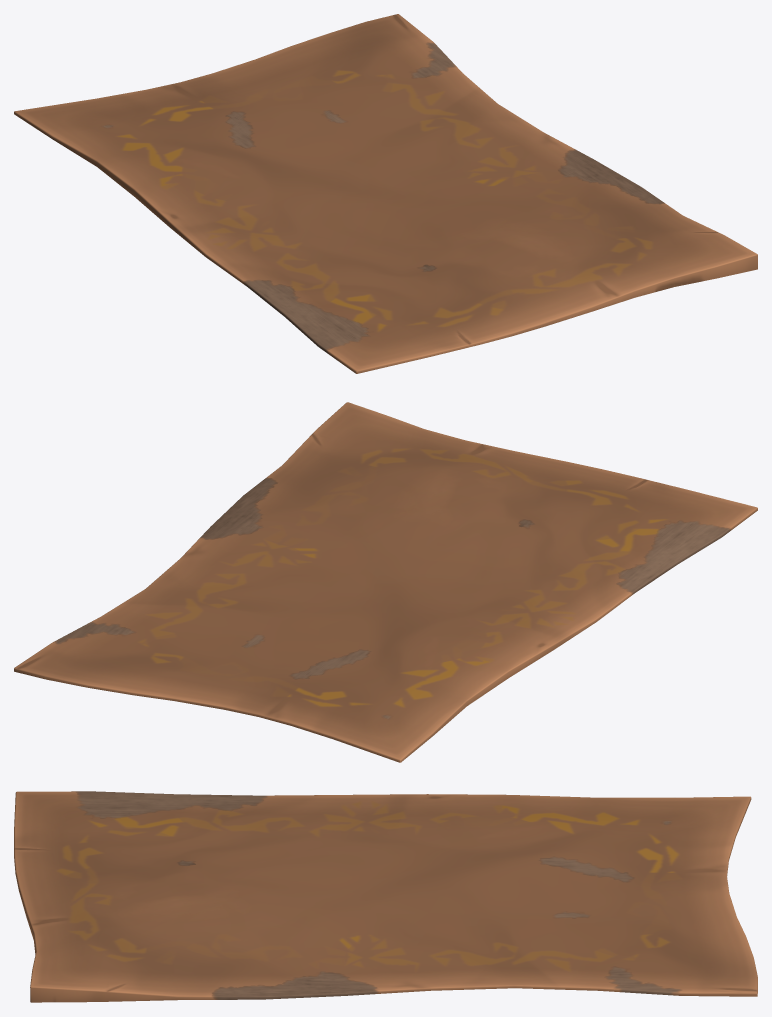
File: SM_Carpet_02.fbx
3 renders of one model, top to bottom at view 1: azimuth 30°, elevation 25°; view 2: azimuth 150°, elevation 25°; view 3: azimuth 270°, elevation 25°, orthographic. The views are drawn at different scales.
Visible parts, largest first — view 1: SM_Carpet_02_LOD0; view 2: SM_Carpet_02_LOD0; view 3: SM_Carpet_02_LOD0.
Boxes of the visible parts, x1,y1,x2,y2 form: SM_Carpet_02_LOD0: (14, 14, 757, 373); SM_Carpet_02_LOD0: (14, 402, 757, 762); SM_Carpet_02_LOD0: (14, 791, 757, 1002).
Size of the model in its own units: 139 by 210 by 5.57.
Materials: 1 (1 with a texture image).
